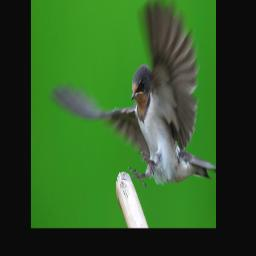Swallow: (51, 0, 213, 188)
